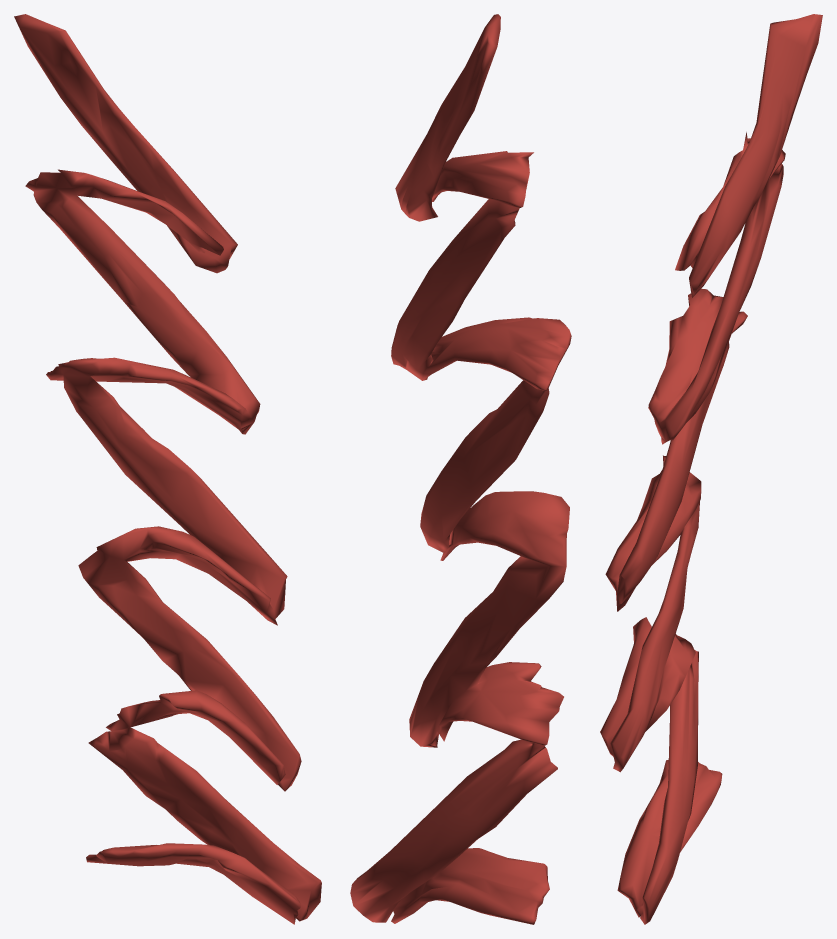
The model's file is musculos-multifidus-lumborum-muscle-l.glb.
The picture shows the model from 3 angles, left to right: view 1: azimuth 30°, elevation 25°; view 2: azimuth 150°, elevation 25°; view 3: azimuth 270°, elevation 25°; orthographic projection. The views are drawn at different scales.
Parts seen in each view (by area): view 1: Multifidus lumborum muscle.l; view 2: Multifidus lumborum muscle.l; view 3: Multifidus lumborum muscle.l.
Part boxes in pixels (<box>): Multifidus lumborum muscle.l: <box>14,14,321,924</box>; Multifidus lumborum muscle.l: <box>350,14,571,924</box>; Multifidus lumborum muscle.l: <box>600,14,822,924</box>.
Bounding box in the file's own units: 0.0426 × 0.1615 × 0.0396.
